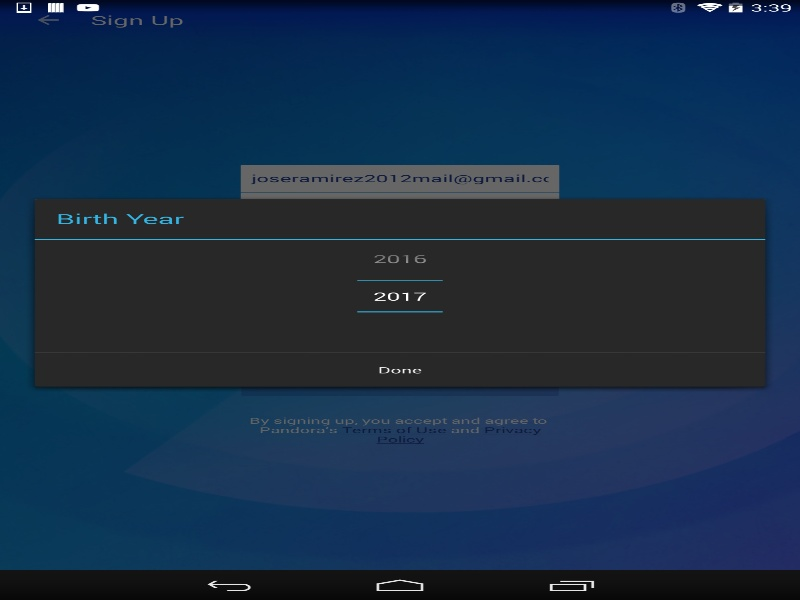Button: (34, 353, 765, 386), (357, 240, 442, 281)
Input: (357, 281, 442, 311)
